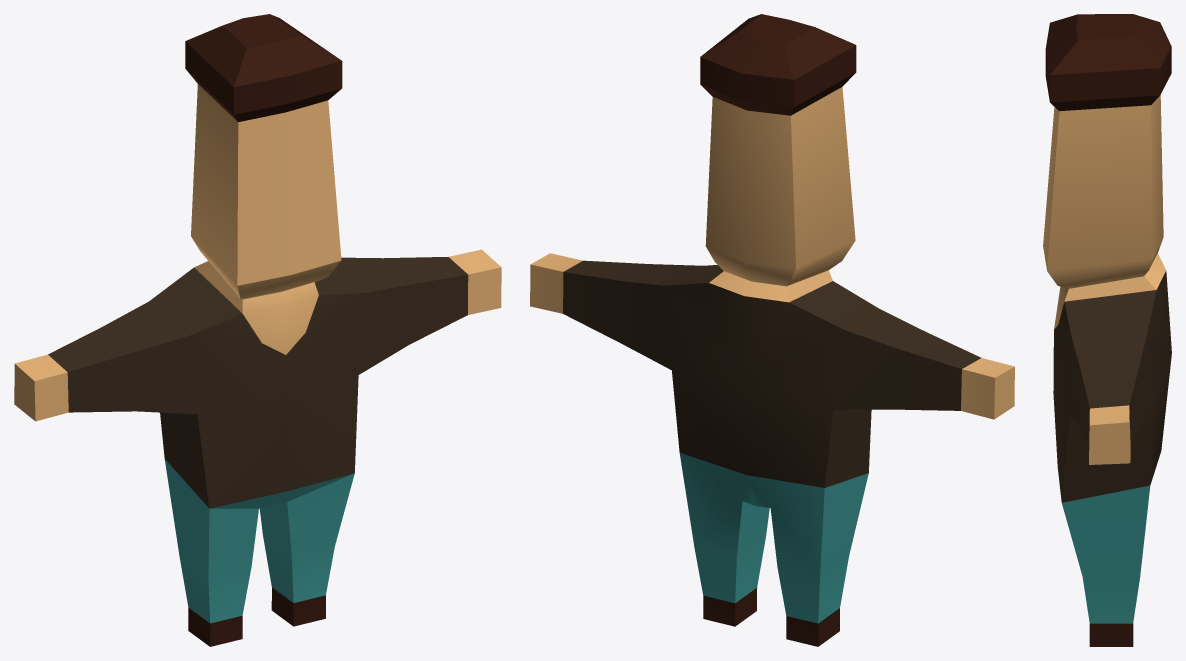
File: characterTest.fbx
The picture shows the model from 3 angles, left to right: view 1: azimuth 30°, elevation 25°; view 2: azimuth 150°, elevation 25°; view 3: azimuth 270°, elevation 25°; orthographic projection.
Parts seen in each view (by area): view 1: Cube.001; view 2: Cube.001; view 3: Cube.001.
Boxes of the visible parts, x1,y1,x2,y2 form: Cube.001: (14, 14, 501, 646); Cube.001: (530, 14, 1014, 646); Cube.001: (1043, 14, 1171, 646).
Bounding box in the file's own units: 388 × 474 × 93.31.
